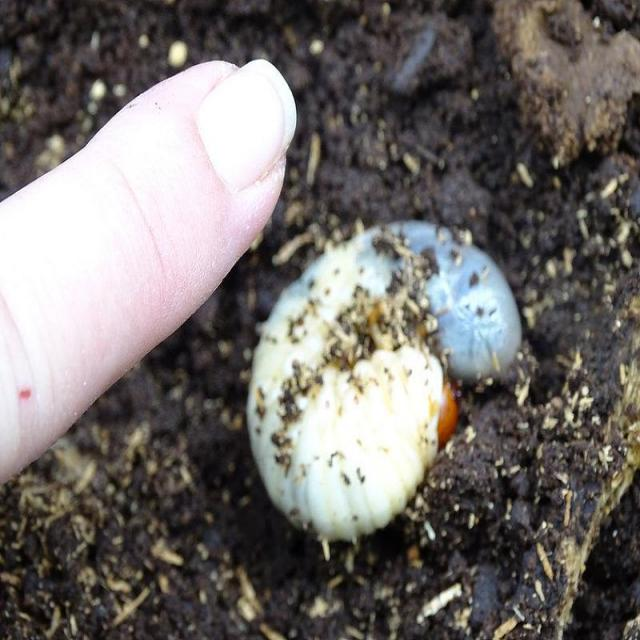Grub-Adult-: (205, 196, 539, 552)
